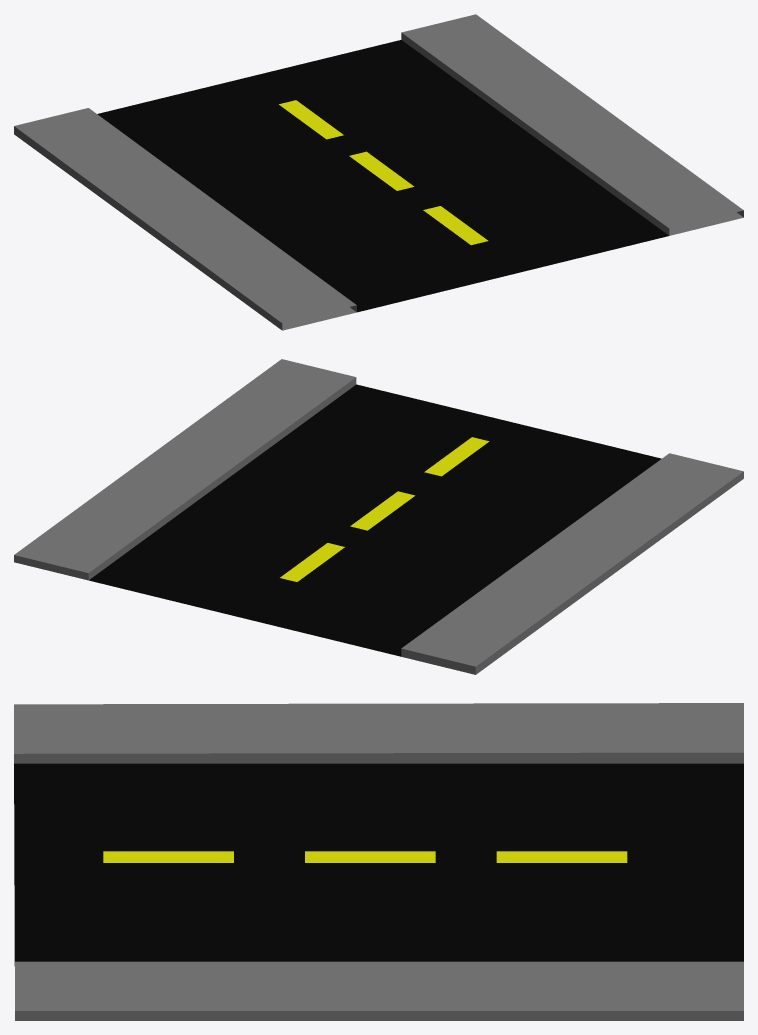
File: Cut half Version 2.fbx
3 renders of one model, top to bottom at view 1: azimuth 30°, elevation 25°; view 2: azimuth 150°, elevation 25°; view 3: azimuth 270°, elevation 25°, orthographic. The views are drawn at different scales.
Visible parts, largest first — view 1: polySurface430; view 2: polySurface430; view 3: polySurface430.
Boxes of the visible parts, <box> form: polySurface430: <box>14,14,743,330</box>; polySurface430: <box>14,359,743,674</box>; polySurface430: <box>14,703,743,1020</box>.
Bounding box in the file's own units: 12.39 × 0.2121 × 12.46.
